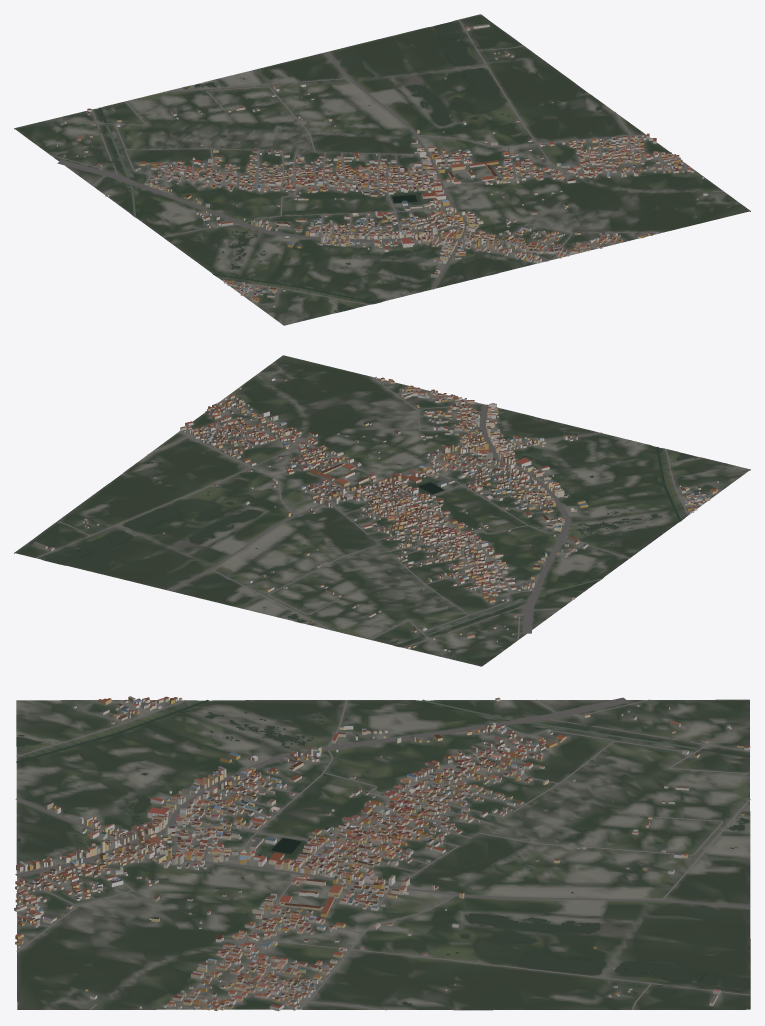
3 views of the same model, one above another, from view 1: azimuth 30°, elevation 25°; view 2: azimuth 150°, elevation 25°; view 3: azimuth 270°, elevation 25° (orthographic). The views are drawn at different scales.
Parts seen in each view (by area): view 1: ground, buildings, roads, water; view 2: ground, buildings, roads, water; view 3: ground, buildings, roads, water.
Boxes of the visible parts, box(x1,y1,x2,y2) form: ground: box(14, 14, 750, 325); buildings: box(56, 24, 707, 307); roads: box(50, 19, 723, 304); water: box(98, 22, 690, 312); ground: box(14, 355, 750, 666); buildings: box(33, 377, 718, 651); roads: box(36, 374, 721, 647); water: box(45, 389, 697, 646); ground: box(16, 699, 750, 1010); buildings: box(14, 696, 750, 1011); roads: box(15, 697, 750, 1010); water: box(16, 699, 749, 1009).
Size of the model in its own units: 1421 by 28.17 by 1408.
